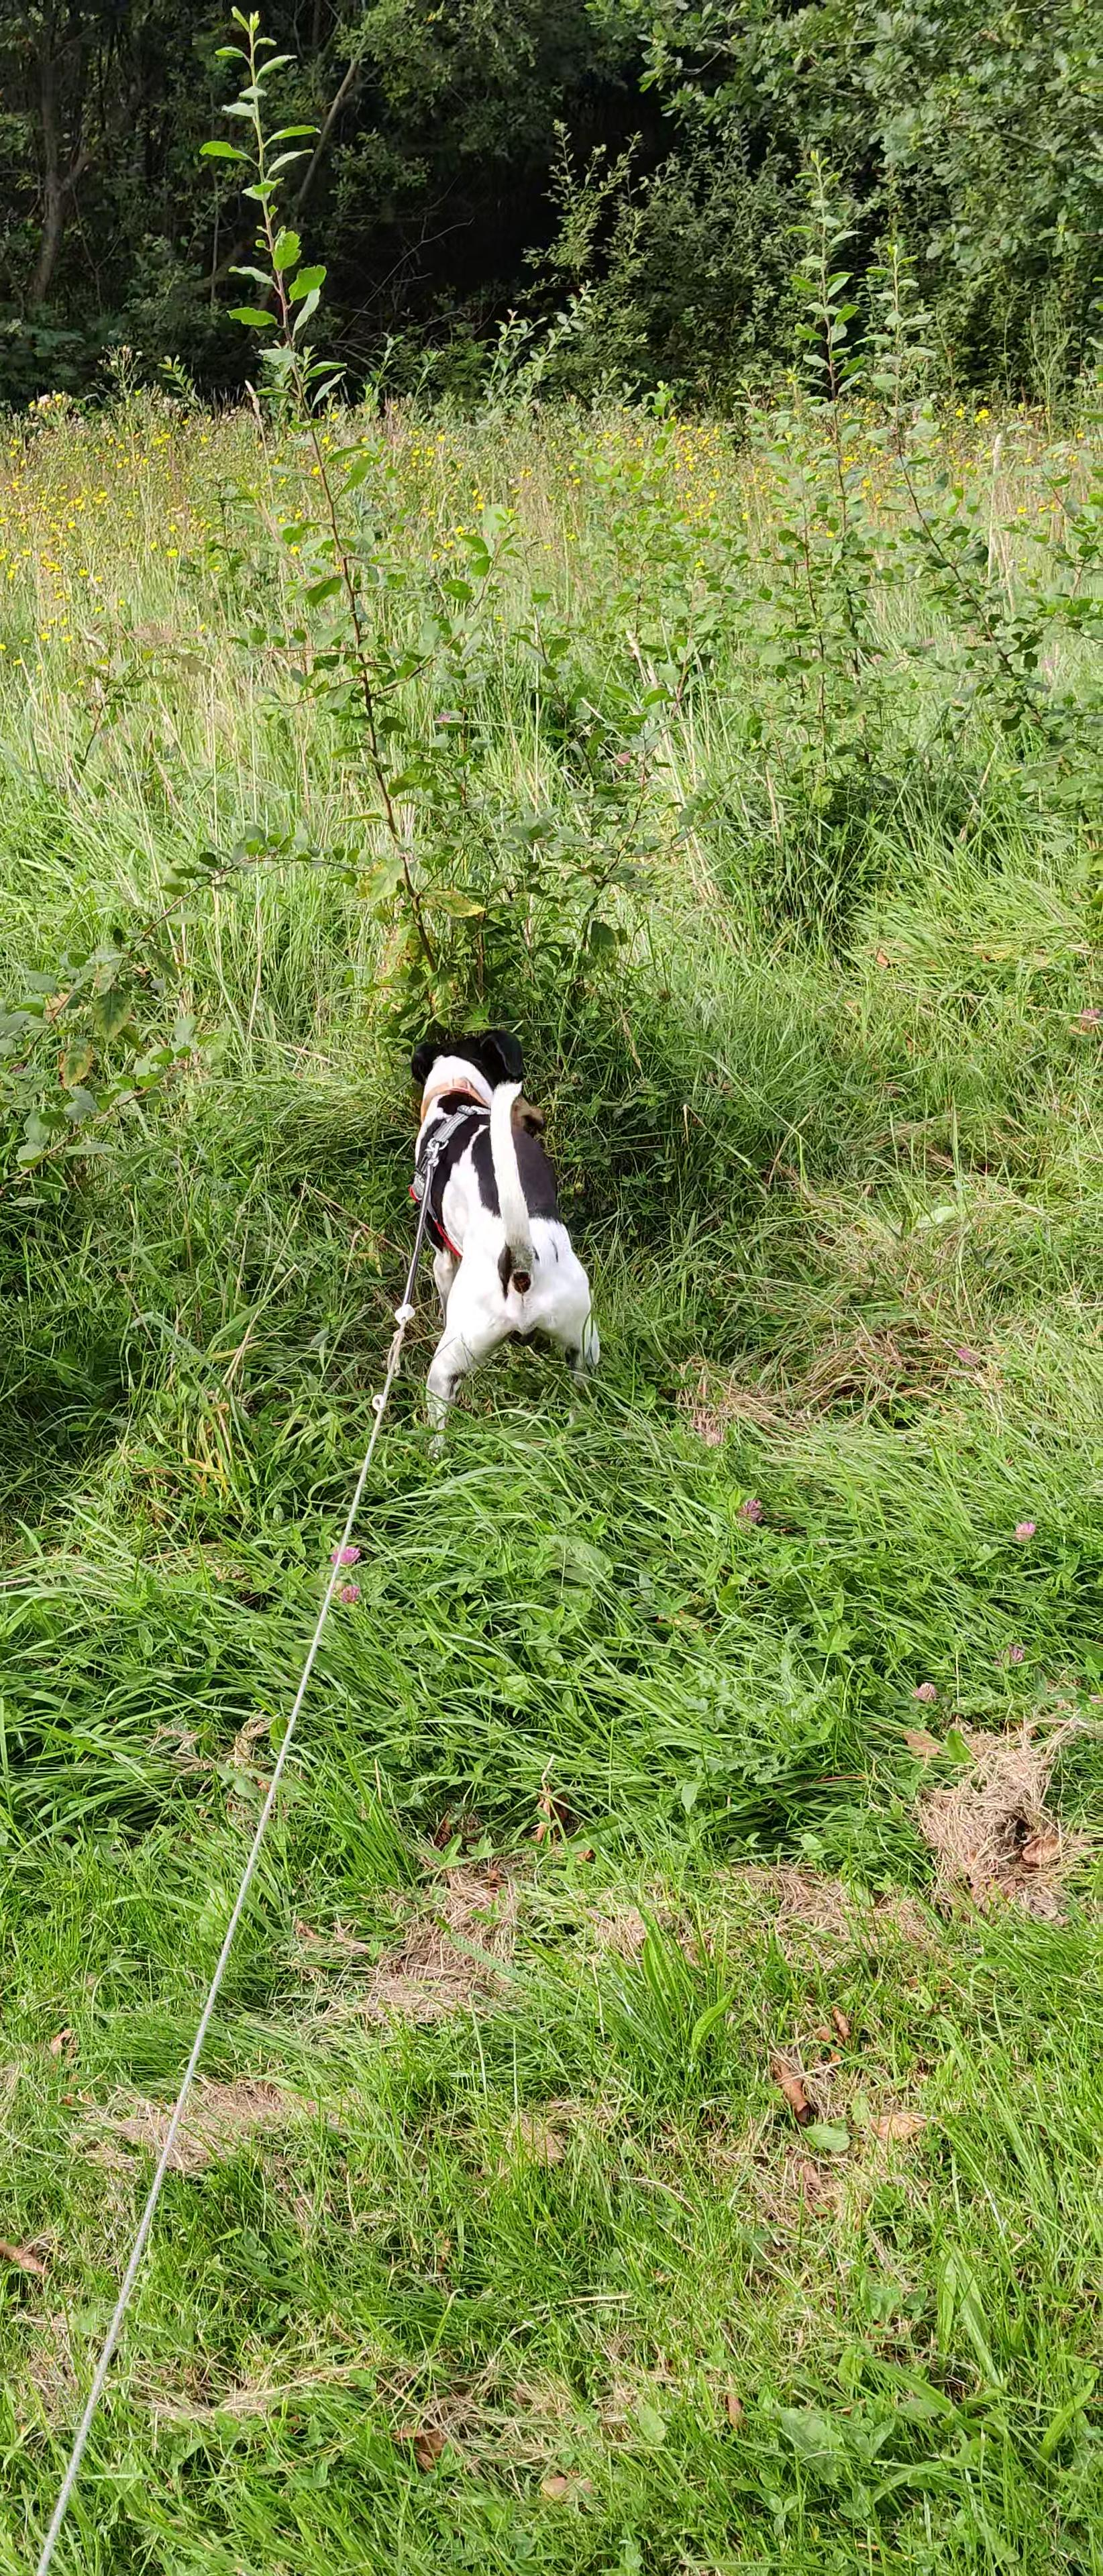Dog: (398, 1009, 610, 1465)
